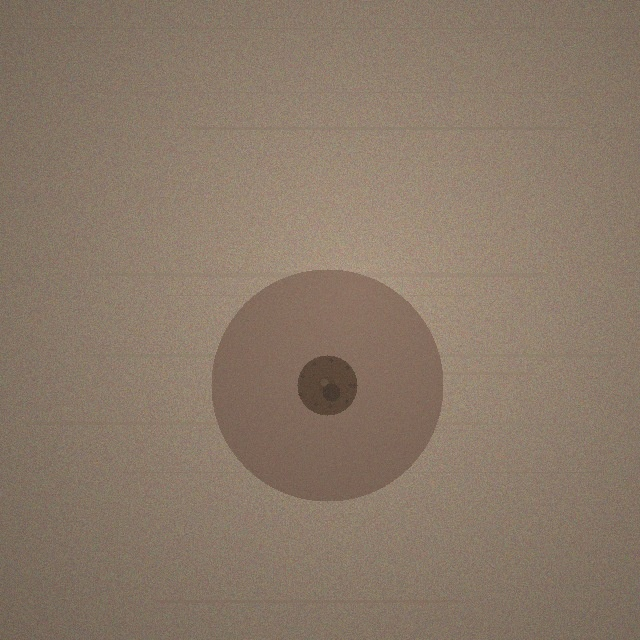cold_weld: (211, 269, 443, 501)
